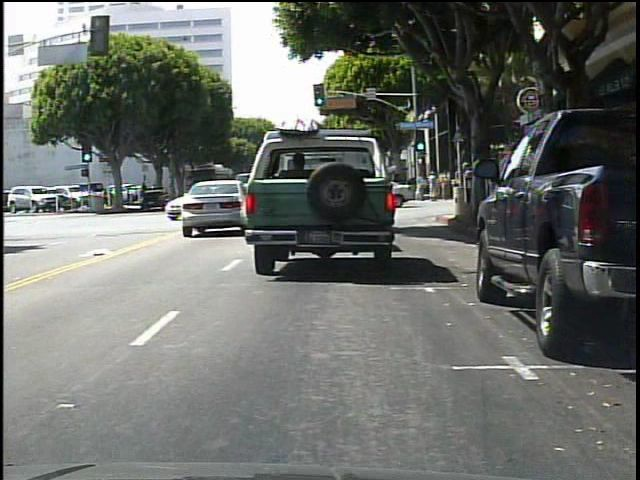person: (440, 170, 451, 201), (427, 168, 437, 200), (417, 171, 427, 202)
